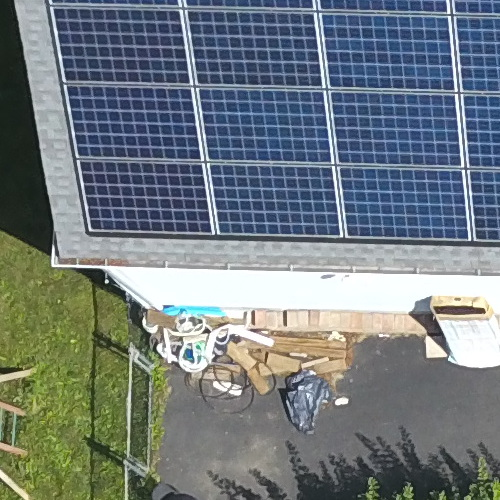clutter: (131, 291, 440, 444)
trash: (285, 365, 350, 432)
